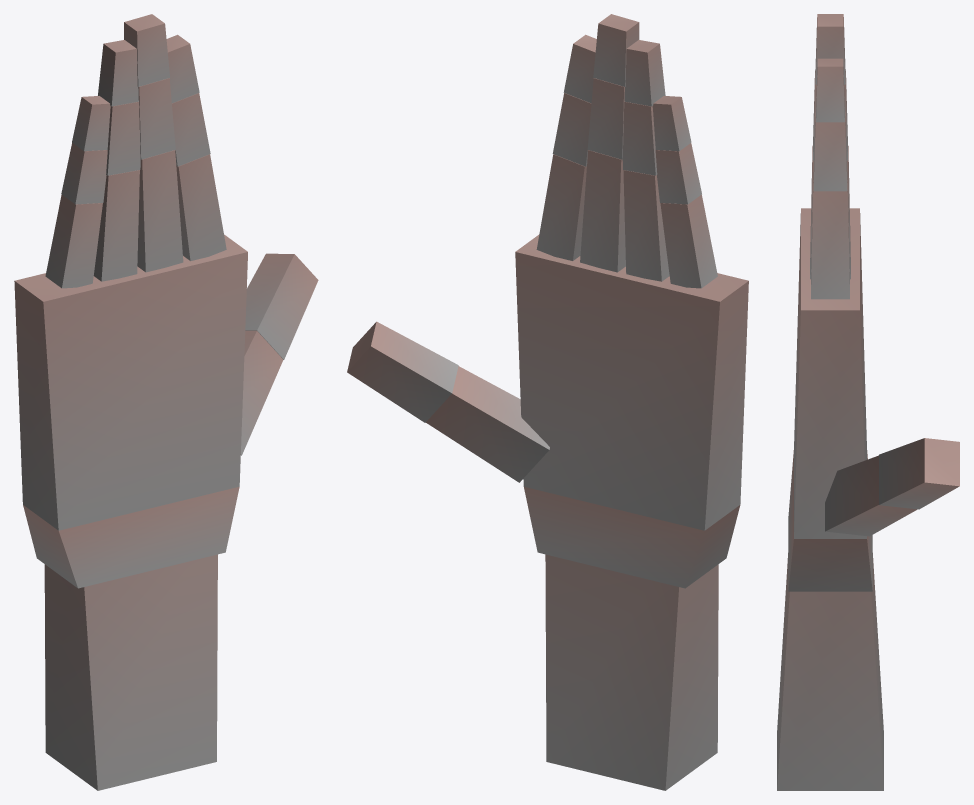
File: Asset_HandLeft.fbx
3 views of the same model, side by side, from view 1: azimuth 30°, elevation 25°; view 2: azimuth 150°, elevation 25°; view 3: azimuth 270°, elevation 25° (orthographic). The views are drawn at different scales.
Visible parts, largest first — view 1: Palm_Mesh, Forearm_Mesh, PalmHeel_Mesh, ThumbDistal_Mesh, MiddleProximal_Mesh, RingProximal_Mesh, IndexProximal_Mesh, LittleProximal_Mesh, ThumbProximal_Mesh, MiddleIntermediate_Mesh, MiddleDistal_Mesh, RingDistal_Mesh (+5 smaller); view 2: Palm_Mesh, Forearm_Mesh, PalmHeel_Mesh, ThumbProximal_Mesh, ThumbDistal_Mesh, MiddleProximal_Mesh, RingProximal_Mesh, IndexProximal_Mesh, LittleProximal_Mesh, MiddleIntermediate_Mesh, MiddleDistal_Mesh, RingDistal_Mesh (+5 smaller); view 3: Forearm_Mesh, Palm_Mesh, PalmHeel_Mesh, ThumbDistal_Mesh, IndexProximal_Mesh, ThumbProximal_Mesh, IndexIntermediate_Mesh, IndexDistal_Mesh, MiddleDistal_Mesh, MiddleProximal_Mesh, MiddleIntermediate_Mesh.
Part boxes in pixels (x1,y1,x2,y2): Palm_Mesh: (14,234,247,530); Forearm_Mesh: (44,554,217,790); PalmHeel_Mesh: (23,486,239,588); ThumbDistal_Mesh: (245,253,318,359); MiddleProximal_Mesh: (137,150,183,272); RingProximal_Mesh: (93,170,139,281); IndexProximal_Mesh: (176,154,226,260); LittleProximal_Mesh: (45,195,102,288); ThumbProximal_Mesh: (241,330,283,455); MiddleIntermediate_Mesh: (138,78,175,159); MiddleDistal_Mesh: (124,14,169,86); RingDistal_Mesh: (98,40,138,106); Palm_Mesh: (515,234,748,530); Forearm_Mesh: (545,554,718,790); PalmHeel_Mesh: (524,486,740,588); ThumbProximal_Mesh: (426,366,549,482); ThumbDistal_Mesh: (347,321,458,422); MiddleProximal_Mesh: (580,150,625,272); RingProximal_Mesh: (623,170,669,281); IndexProximal_Mesh: (536,154,586,260); LittleProximal_Mesh: (660,194,717,288); MiddleIntermediate_Mesh: (587,78,624,159); MiddleDistal_Mesh: (593,14,639,86); RingDistal_Mesh: (624,40,665,106); Forearm_Mesh: (777,553,883,790); Palm_Mesh: (794,208,866,538); PalmHeel_Mesh: (788,450,872,591); ThumbDistal_Mesh: (879,438,959,509); IndexProximal_Mesh: (811,180,849,299); ThumbProximal_Mesh: (825,455,917,536); IndexIntermediate_Mesh: (813,112,847,191); IndexDistal_Mesh: (816,58,844,122); MiddleDistal_Mesh: (815,14,845,84); MiddleProximal_Mesh: (810,145,850,279); MiddleIntermediate_Mesh: (813,71,847,160).
Size of the model in its own units: 0.1409 by 0.2937 by 0.065.
